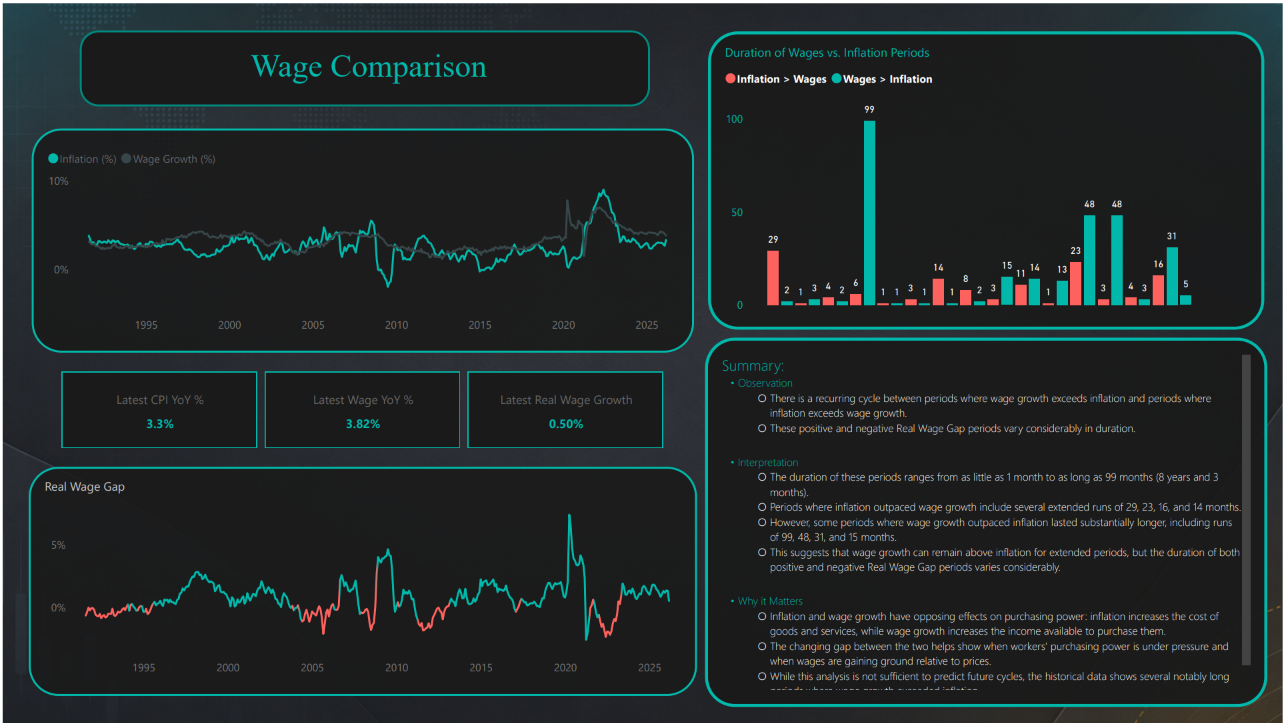

Layout of this report page (visuals, bound fields, positions):
{"tool":"powerbi","page":{"name":"Inflation vs Wages","canvas":[1280,720],"ordinal":1},"visuals":[{"type":"lineChart","fields":{"Category":["cost_of_living_monthly_analysis.date.Variation.Date Hierarchy.Year"],"Y":["cost_of_living_monthly_analysis.CPI YoY %","cost_of_living_monthly_analysis.Wage YoY %"]},"box":[28.7,125.1,662.6,224.2],"z":0},{"type":"lineChart","title":"Real Wage Gap","fields":{"Y":["cost_of_living_monthly_analysis.Wage Inflation Gap"],"Category":["cost_of_living_monthly_analysis.date.Variation.Date Hierarchy.Year"]},"box":[25.6,462.9,668.4,228.8],"z":1000},{"type":"cardVisual","fields":{"Data":["cost_of_living_monthly_analysis.Latest CPI YoY %","cost_of_living_monthly_analysis.Latest Wage YoY %","cost_of_living_monthly_analysis.Latest Wage Inflation Gap"]},"box":[53.9,363.4,612.1,85.9],"z":2000},{"type":"shape","box":[77.5,27.5,569.9,75.7],"z":3000,"group":"g1"},{"type":"textbox","box":[701.6,333.7,562.5,369.8],"z":3000},{"type":"group","id":"g1","title":"Group 1","box":[77.5,27.5,569.7,75.6],"z":4000},{"type":"textbox","box":[85.3,39.6,562.1,60.2],"z":4000,"group":"g1"},{"type":"columnChart","title":"Duration of Wages vs. Inflation Periods","fields":{"Category":["cost_of_living_monthly_analysis.Period ID"],"Y":["cost_of_living_monthly_analysis.Period Length Months"],"Series":["cost_of_living_monthly_analysis.Wage Inflation State"]},"box":[704.7,27.6,556,298.6],"z":5000}]}

Visuals, with their boxes in screenshot pixels (x1, y1, x2, y2), scaled from the page's 1280x720 canvas onto the 1283x723 screenshot:
lineChart - cost_of_living_monthly_analysis.date.Variation.Date Hierarchy.Year x cost_of_living_monthly_analysis.CPI YoY %: crop(29, 126, 693, 351)
"Real Wage Gap" lineChart: crop(26, 465, 696, 695)
cardVisual - cost_of_living_monthly_analysis.Latest CPI YoY % x cost_of_living_monthly_analysis.Latest Wage YoY %: crop(54, 365, 668, 451)
shape: crop(78, 28, 649, 104)
textbox: crop(703, 335, 1267, 706)
"Group 1" group: crop(78, 28, 649, 104)
textbox: crop(85, 40, 649, 100)
"Duration of Wages vs. Inflation Periods" columnChart: crop(706, 28, 1264, 328)
